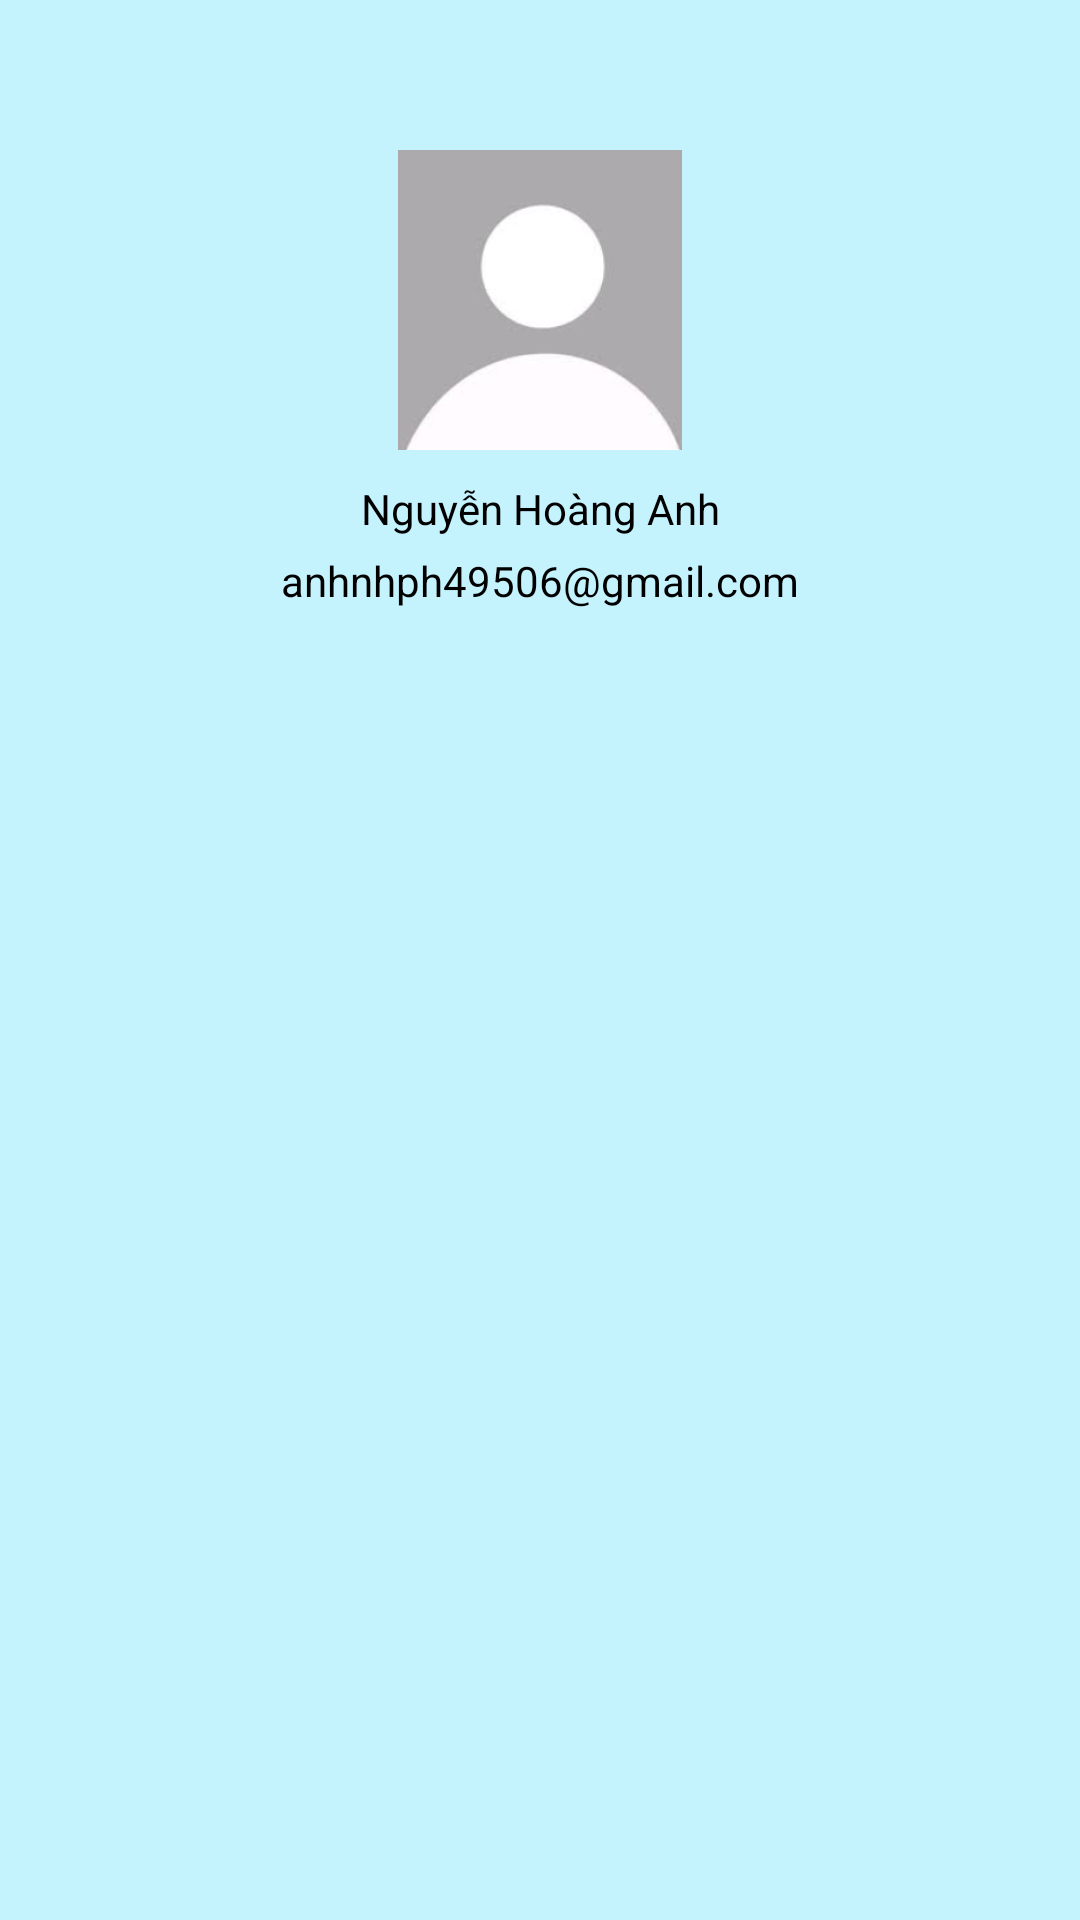

Point at icon controls on the screen. Image size 1080*1920, points as (x=x, y=y).
avt: (x=540, y=300)
